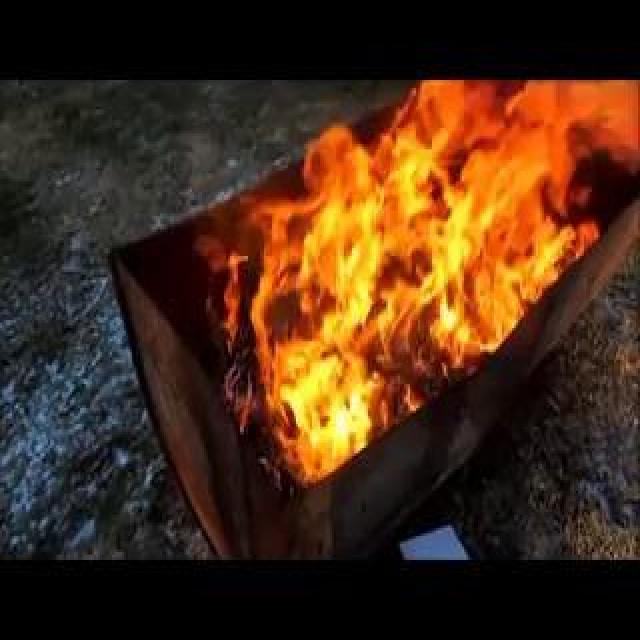Fire: (398, 286, 405, 402)
